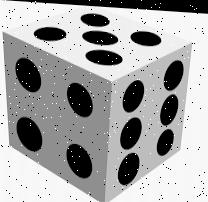cube: (8, 5, 192, 202)
